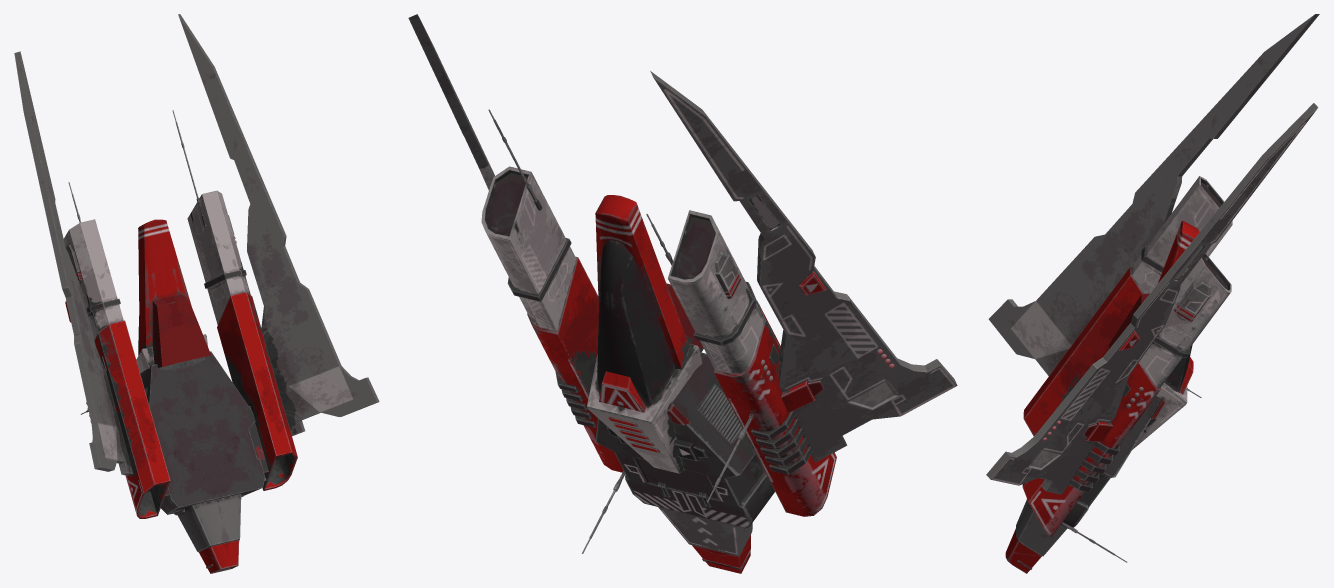
The model's file is Striker.fbx.
The picture shows the model from 3 angles, left to right: view 1: azimuth 30°, elevation 25°; view 2: azimuth 150°, elevation 25°; view 3: azimuth 270°, elevation 25°; orthographic projection. The views are drawn at different scales.
Parts seen in each view (by area): view 1: Striker; view 2: Striker; view 3: Striker.
Part boxes in pixels (x1,y1,x2,y2): Striker: (14,14,379,573); Striker: (408,14,957,573); Striker: (986,14,1319,573).
Bounding box in the file's own units: 2577 × 2287 × 3871.
